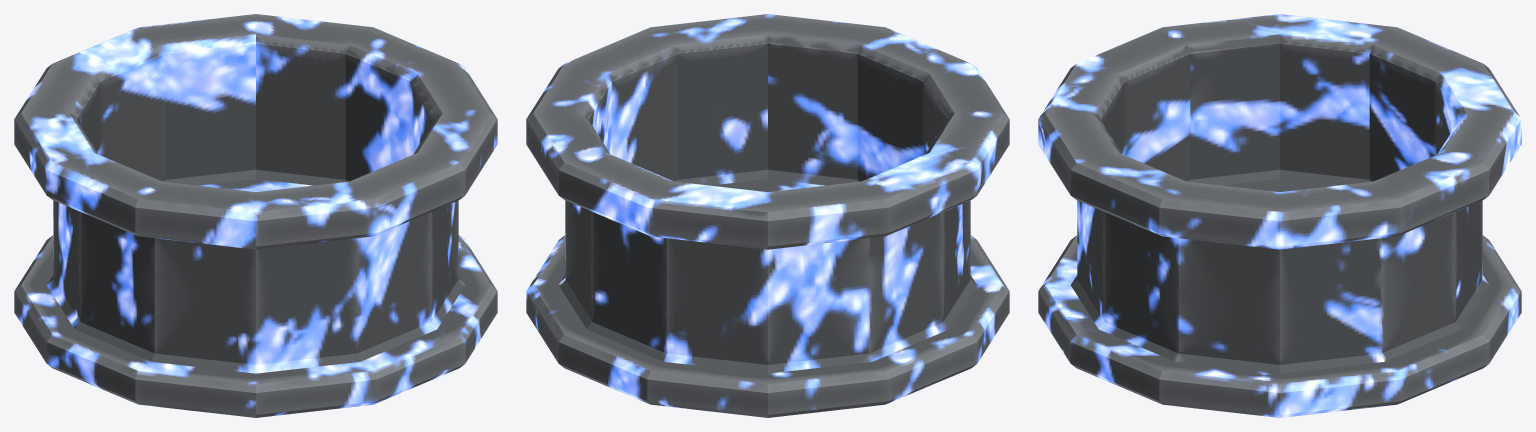
File: Podio_01_Web.glb
3 views of the same model, side by side, from view 1: azimuth 30°, elevation 25°; view 2: azimuth 150°, elevation 25°; view 3: azimuth 270°, elevation 25° (orthographic).
Visible parts, largest first — view 1: Podio; view 2: Podio; view 3: Podio.
Boxes of the visible parts, <box> form: Podio: <box>14,14,497,417</box>; Podio: <box>526,14,1009,417</box>; Podio: <box>1038,14,1521,417</box>.
Bounding box in the file's own units: 0.1729 × 0.0811 × 0.1729.
Materials: 1 (1 with a texture image).
